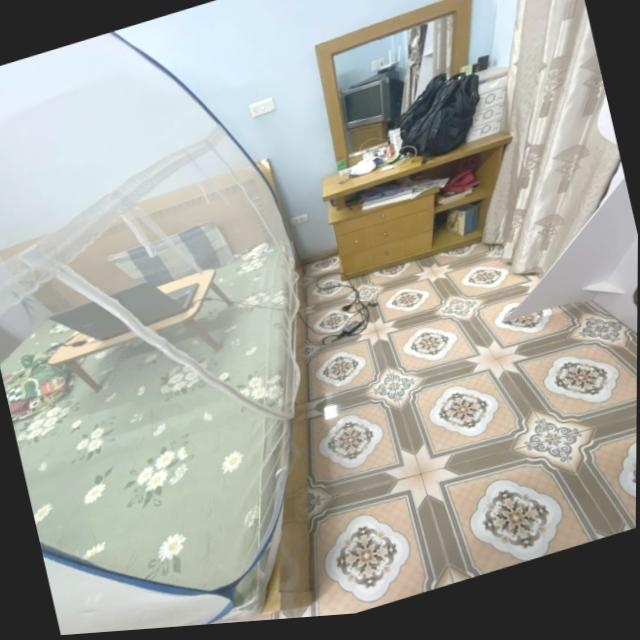outlet: (285, 207, 319, 232)
